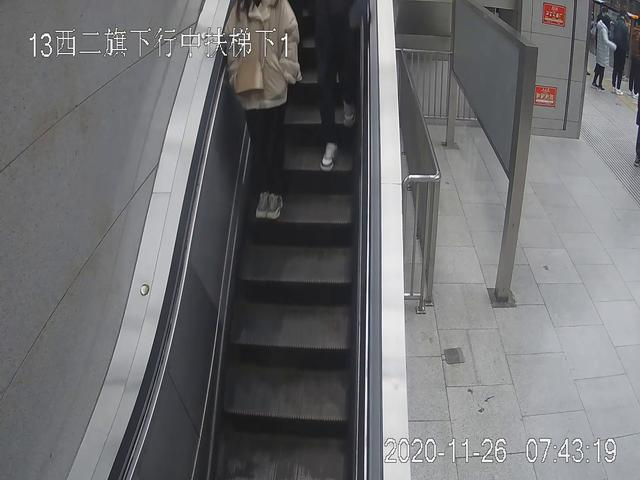person: (223, 2, 302, 221), (592, 16, 616, 90)
